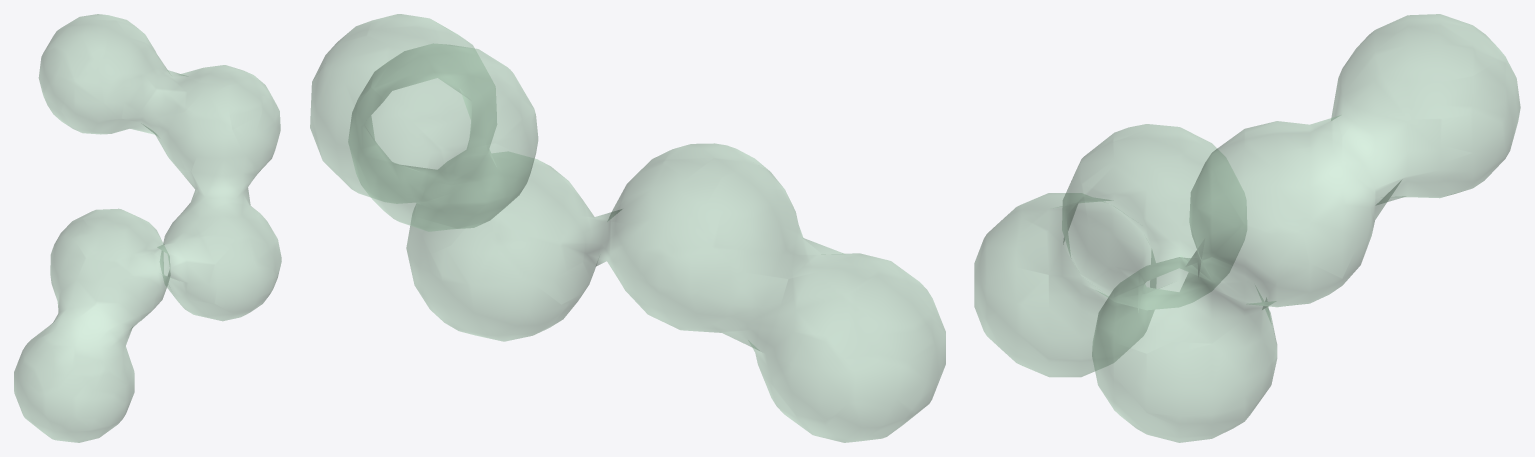
The picture shows the model from 3 angles, left to right: view 1: azimuth 30°, elevation 25°; view 2: azimuth 150°, elevation 25°; view 3: azimuth 270°, elevation 25°; orthographic projection. The views are drawn at different scales.
Visible parts, largest first — view 1: Mball.005; view 2: Mball.005; view 3: Mball.005.
Part boxes in pixels (bbox=[...]): Mball.005: bbox=[14, 14, 281, 442]; Mball.005: bbox=[310, 14, 945, 442]; Mball.005: bbox=[974, 14, 1520, 442].
Bounding box in the file's own units: 0.00375 × 0.00329 × 0.0036.
